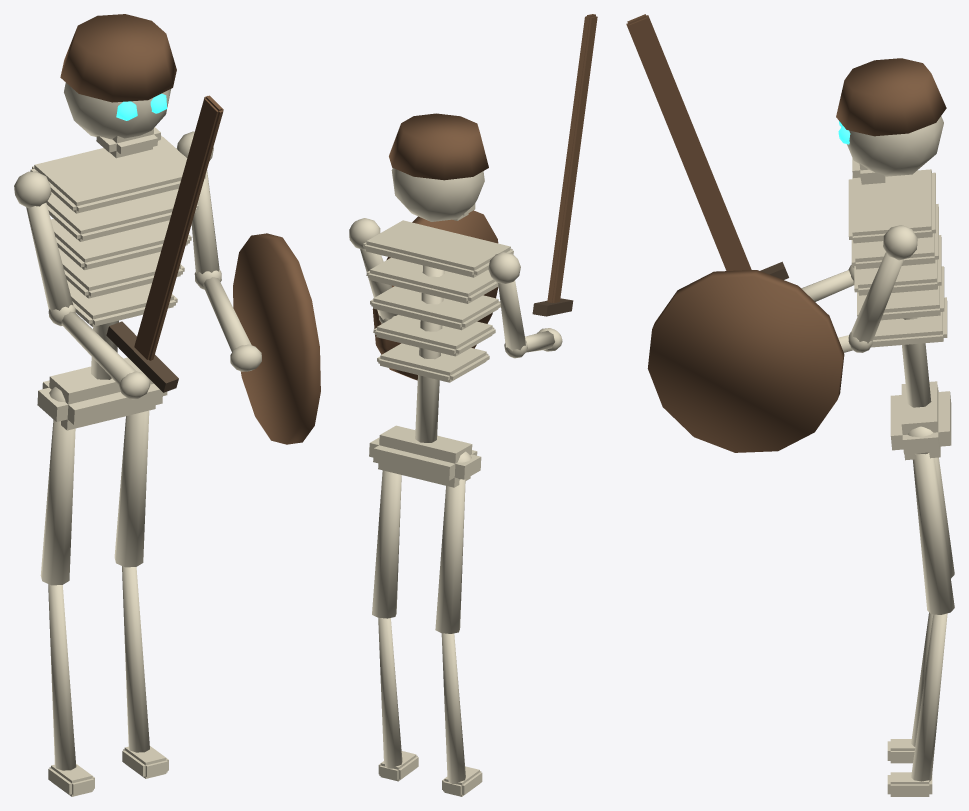
Rendered from elven-skeleton.glb.
The picture shows the model from 3 angles, left to right: view 1: azimuth 30°, elevation 25°; view 2: azimuth 150°, elevation 25°; view 3: azimuth 270°, elevation 25°; orthographic projection. The views are drawn at different scales.
Parts seen in each view (by area): view 1: Body Mesh, ArmL Elbow Mesh, Head Mesh, ArmR Elbow Mesh, LegB 0 Knee Mesh, LegA 0 Knee Mesh, LegB 0 Mesh, LegA 0 Mesh, ArmR Mesh, ArmL Mesh; view 2: Body Mesh, Head Mesh, ArmR Elbow Mesh, LegB 0 Mesh, LegA 0 Mesh, LegA 0 Knee Mesh, LegB 0 Knee Mesh, ArmR Mesh, ArmL Elbow Mesh, ArmL Mesh; view 3: ArmL Elbow Mesh, Body Mesh, Head Mesh, ArmR Elbow Mesh, LegA 0 Mesh, LegA 0 Knee Mesh, ArmL Mesh, LegB 0 Knee Mesh, LegB 0 Mesh.
Part boxes in pixels (x1,y1,x2,y2): Body Mesh: [30, 135, 205, 430]; ArmL Elbow Mesh: [194, 233, 320, 444]; Head Mesh: [60, 14, 176, 158]; ArmR Elbow Mesh: [48, 95, 223, 399]; LegB 0 Knee Mesh: [48, 584, 94, 796]; LegA 0 Knee Mesh: [122, 566, 168, 778]; LegB 0 Mesh: [40, 387, 75, 585]; LegA 0 Mesh: [114, 410, 149, 567]; ArmR Mesh: [14, 171, 73, 311]; ArmL Mesh: [176, 131, 219, 273]; Body Mesh: [363, 220, 513, 487]; Head Mesh: [389, 113, 488, 221]; ArmR Elbow Mesh: [504, 14, 597, 358]; LegB 0 Mesh: [435, 451, 471, 633]; LegA 0 Mesh: [372, 470, 401, 618]; LegA 0 Knee Mesh: [378, 617, 418, 781]; LegB 0 Knee Mesh: [441, 633, 482, 796]; ArmR Mesh: [488, 252, 525, 351]; ArmL Elbow Mesh: [372, 210, 498, 380]; ArmL Mesh: [349, 218, 397, 319]; ArmL Elbow Mesh: [647, 270, 872, 452]; Body Mesh: [848, 169, 951, 460]; Head Mesh: [836, 58, 946, 184]; ArmR Elbow Mesh: [626, 14, 854, 301]; LegA 0 Mesh: [907, 426, 954, 614]; LegA 0 Knee Mesh: [887, 613, 947, 796]; ArmL Mesh: [851, 225, 917, 343]; LegB 0 Knee Mesh: [887, 612, 933, 763]; LegB 0 Mesh: [934, 457, 954, 578].
Size of the model in its own units: 0.5451 by 2.06 by 0.8282.
